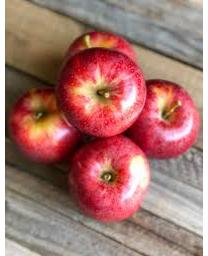apple: (54, 47, 146, 137), (66, 134, 150, 223), (7, 86, 81, 165), (127, 79, 199, 159), (63, 32, 137, 68)
